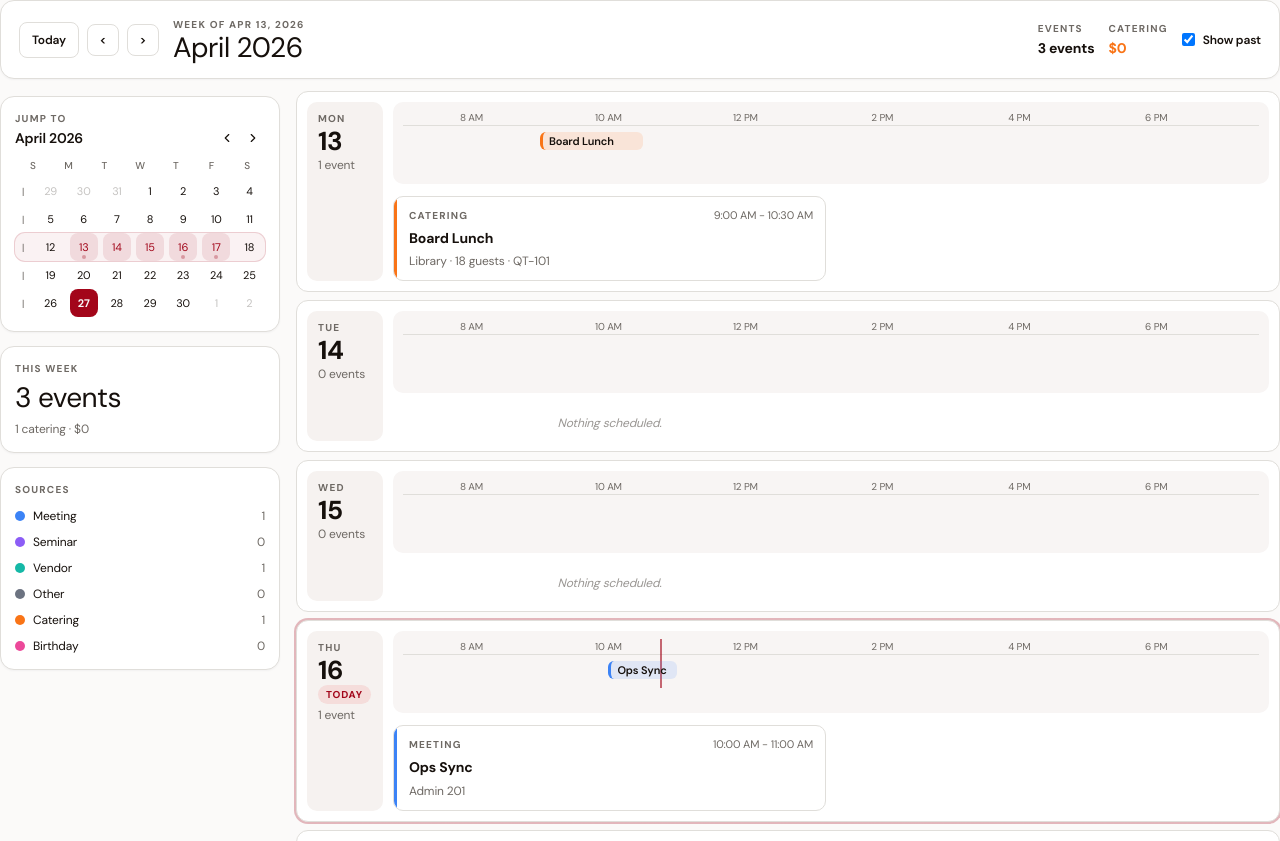
Test: AgendaStreamView › expands a lane into the hour grid scaffold when its plate is clicked
The image size is (1280, 841).
Click the button with aria-label "Thursday, April 16, 2026" at (345,721), box [307, 631, 383, 811]
(page scrolled)
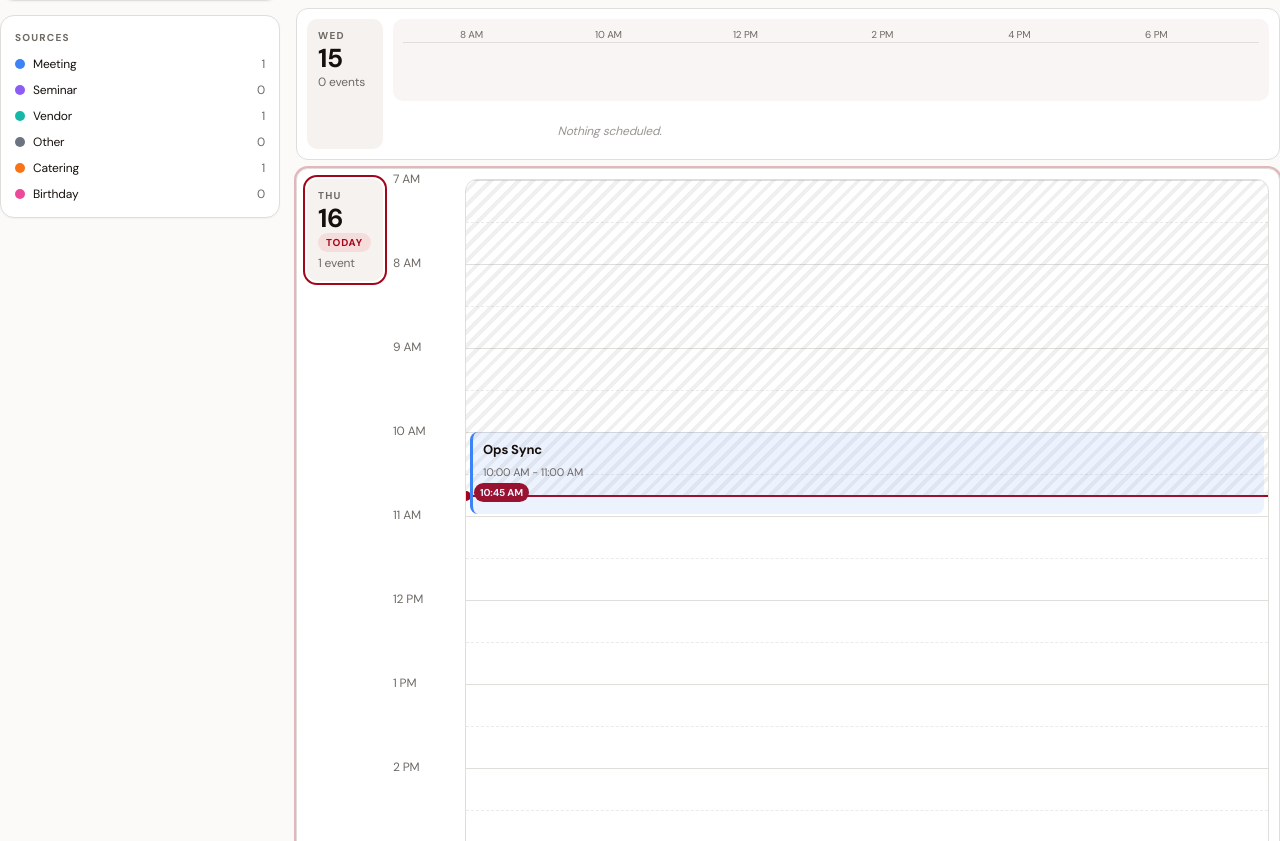
Expected: the text "12 PM" below "11 AM" is shown, [393, 591, 423, 607]
Expected: the button with aria-label "Thursday, April 16, 2026" is expanded, [307, 179, 383, 281]
Expected: the text "7 AM" is shown, [393, 170, 420, 188]
